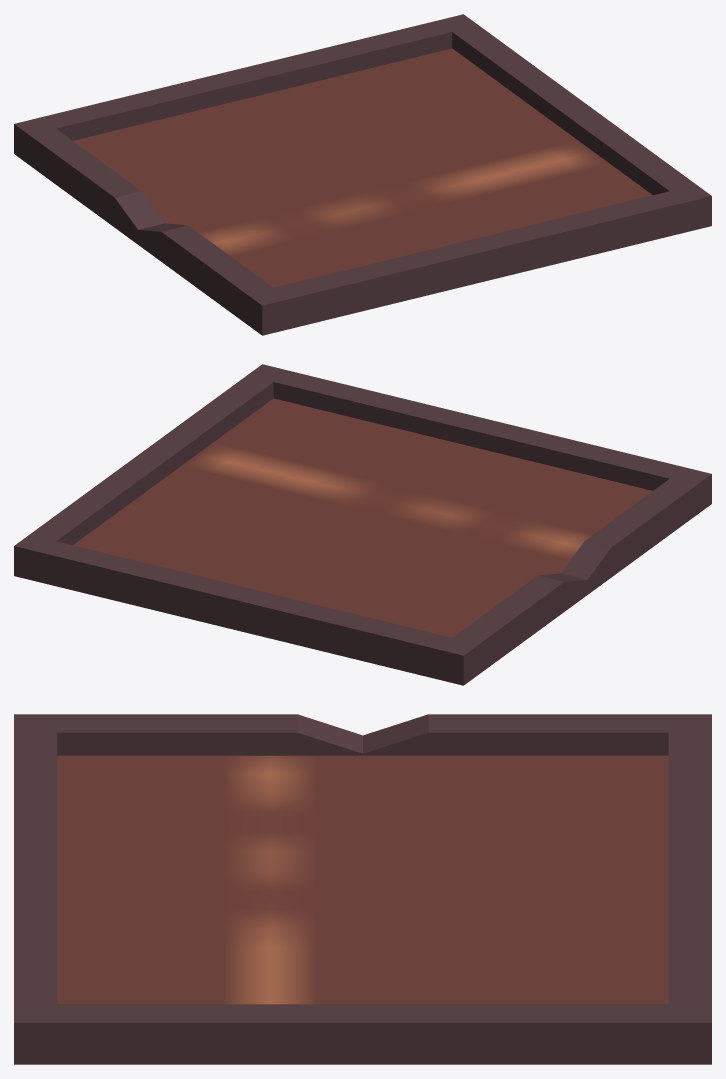
The model's file is GuardaCartas.fbx.
3 renders of one model, top to bottom at view 1: azimuth 30°, elevation 25°; view 2: azimuth 150°, elevation 25°; view 3: azimuth 270°, elevation 25°, orthographic. The views are drawn at different scales.
Visible parts, largest first — view 1: GuardaCartas; view 2: GuardaCartas; view 3: GuardaCartas.
Boxes of the visible parts, x1=… form: GuardaCartas: x1=14, y1=14, x2=711, y2=335; GuardaCartas: x1=14, y1=364, x2=711, y2=685; GuardaCartas: x1=14, y1=714, x2=711, y2=1064.
Size of the model in its own units: 45.72 by 43.75 by 2.92.
